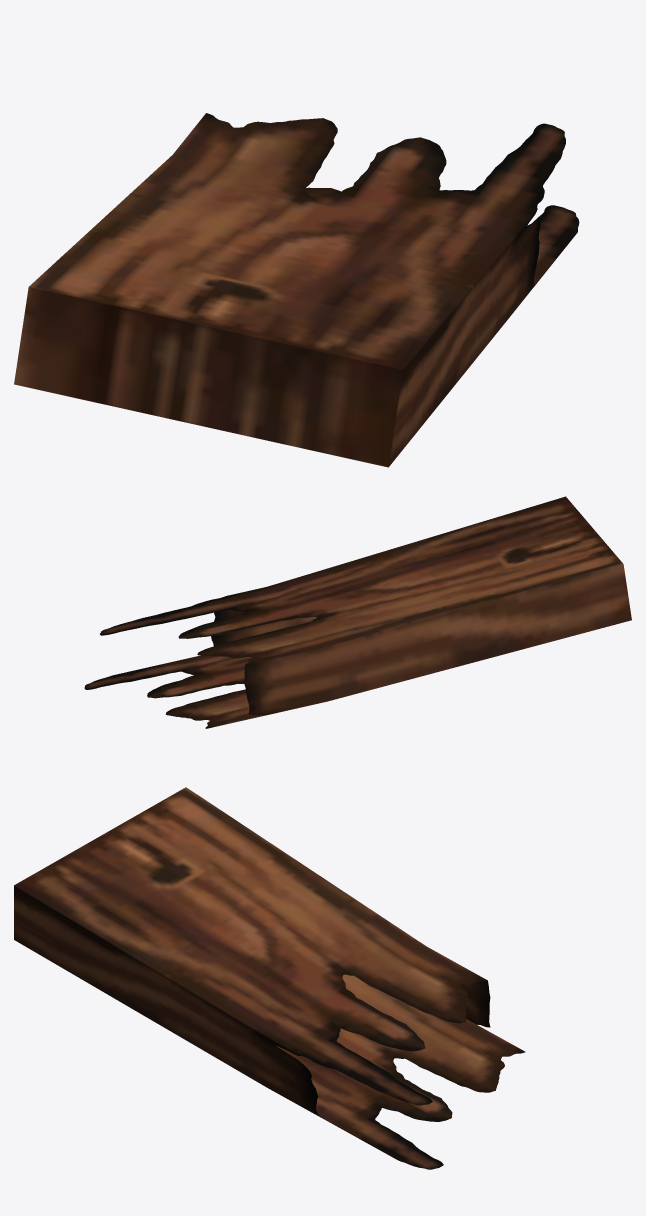
File: ANIMATEDINSTANCES_BOARD_FALL4__BA.fbx
The picture shows the model from 3 angles, top to bottom: view 1: azimuth 30°, elevation 25°; view 2: azimuth 150°, elevation 25°; view 3: azimuth 270°, elevation 25°; orthographic projection. The views are drawn at different scales.
Parts seen in each view (by area): view 1: ANIMATEDINSTANCES_BOARD_FALL4__BA; view 2: ANIMATEDINSTANCES_BOARD_FALL4__BA; view 3: ANIMATEDINSTANCES_BOARD_FALL4__BA.
Part boxes in pixels (x1=…): ANIMATEDINSTANCES_BOARD_FALL4__BA: x1=14, y1=113, x2=579, y2=467; ANIMATEDINSTANCES_BOARD_FALL4__BA: x1=84, y1=496, x2=631, y2=728; ANIMATEDINSTANCES_BOARD_FALL4__BA: x1=14, y1=787, x2=525, y2=1169.
Size of the model in its own units: 8811 by 2603 by 8880.
1 material, 1 textured.
